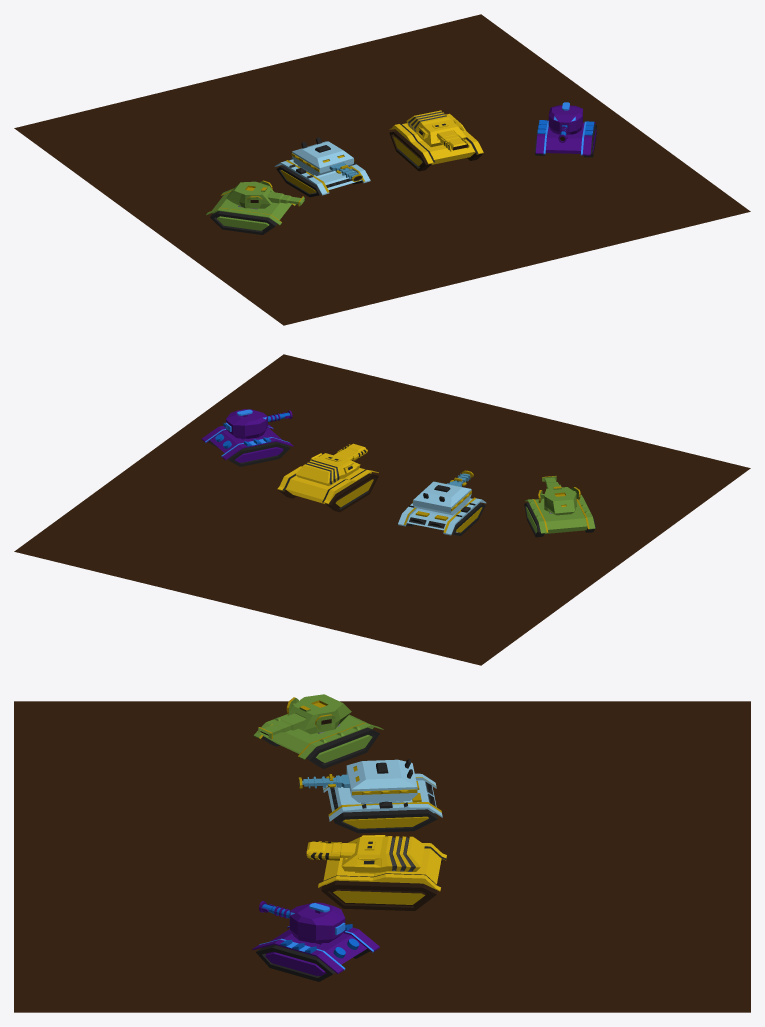
File: tank.glb
The picture shows the model from 3 angles, top to bottom: view 1: azimuth 30°, elevation 25°; view 2: azimuth 150°, elevation 25°; view 3: azimuth 270°, elevation 25°; orthographic projection. The views are drawn at different scales.
Parts seen in each view (by area): view 1: Plane, TankYellow, BlueTank, Cube, Cube.001; view 2: Plane, TankYellow, Cube.001, BlueTank, Cube; view 3: Plane, TankYellow, BlueTank, Cube.001, Cube.
Part boxes in pixels (x1,y1,x2,y2): Plane: [14, 14, 750, 325]; TankYellow: [389, 110, 483, 171]; BlueTank: [274, 137, 370, 197]; Cube: [206, 180, 304, 234]; Cube.001: [534, 102, 596, 157]; Plane: [14, 354, 750, 665]; TankYellow: [277, 443, 378, 512]; Cube.001: [201, 409, 293, 466]; BlueTank: [398, 470, 486, 536]; Cube: [524, 476, 595, 537]; Plane: [14, 701, 750, 1012]; TankYellow: [306, 835, 446, 910]; BlueTank: [298, 759, 442, 833]; Cube.001: [252, 901, 379, 981]; Cube: [253, 694, 383, 768].
Size of the model in its own units: 16.05 by 1.38 by 16.05.
Materials: 5 (4 with a texture image).
